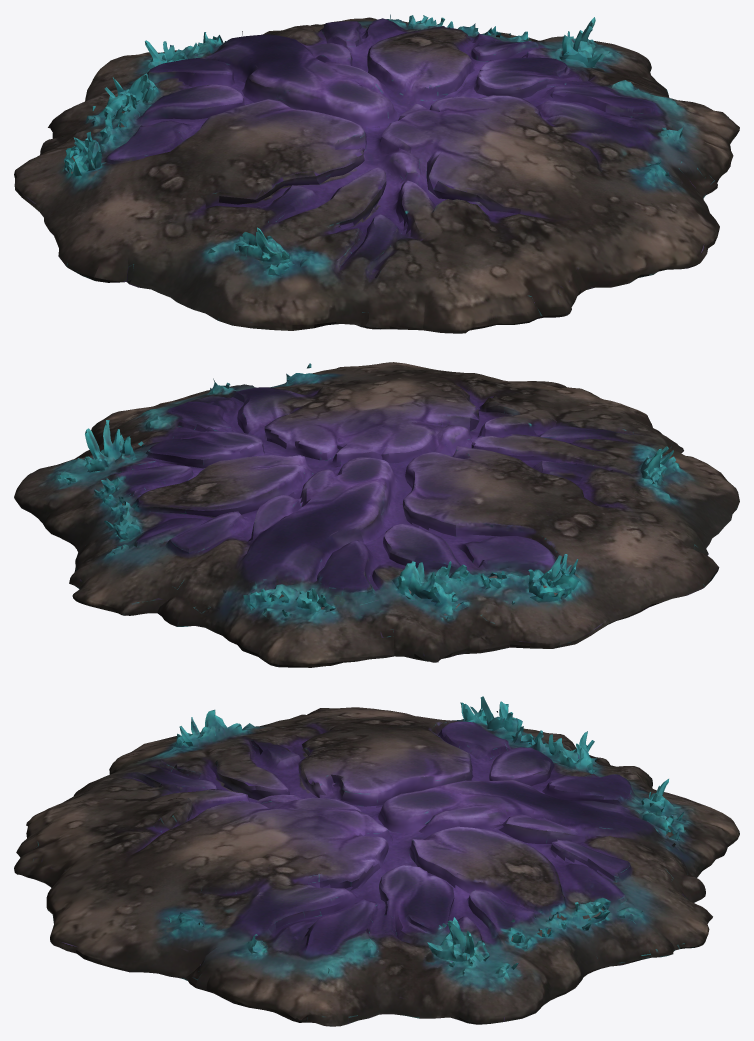
Rendered from scar_crust_v1.glb.
3 views of the same model, one above another, from view 1: azimuth 30°, elevation 25°; view 2: azimuth 150°, elevation 25°; view 3: azimuth 270°, elevation 25° (orthographic). The views are drawn at different scales.
Parts seen in each view (by area): view 1: Mesh_0; view 2: Mesh_0; view 3: Mesh_0.
Part boxes in pixels (x1,y1,x2,y2): Mesh_0: [14, 14, 739, 333]; Mesh_0: [14, 362, 739, 667]; Mesh_0: [14, 696, 739, 1026].
Bounding box in the file's own units: 1.89 × 0.2066 × 1.86.
1 material, 1 textured.
